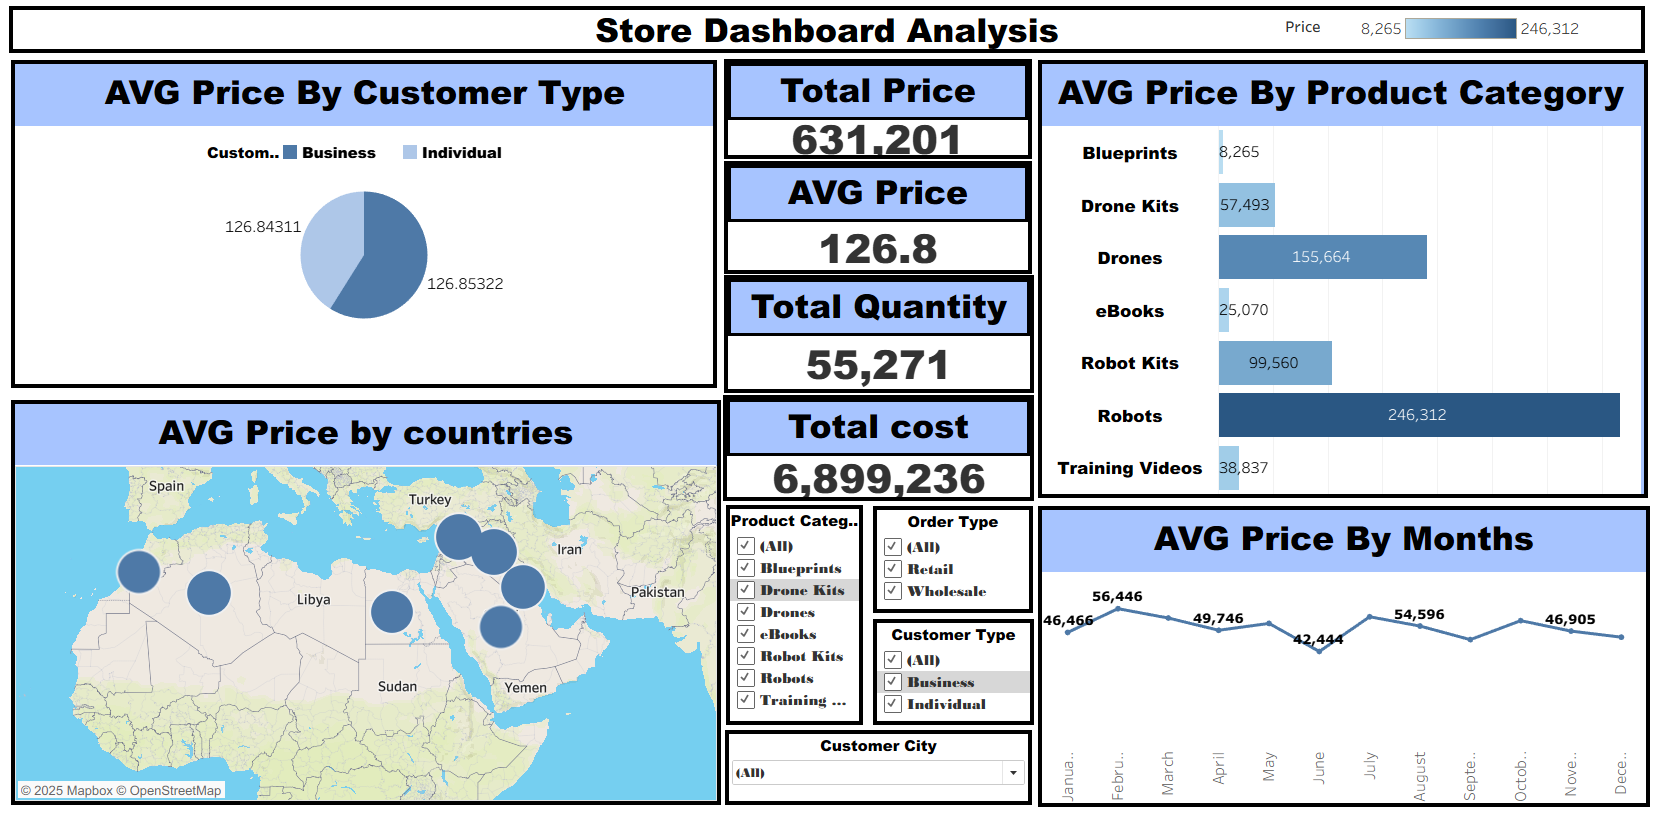

The page's visual inventory and layout, read from the dashboard file:
{"tool":"tableau","page":{"name":"Store Dashboard Analysis","canvas":[1000,1000],"units":"permille","ordinal":0},"visuals":[{"type":"title","box":[4.8,9.7,990.4,66.8]},{"type":"legend","title":"AVG Price By Product Category","param":"[federated.1s2v3v31qegila17r1w2x0wz4xx1].[sum:Price:qk]","box":[776.1,24.3,179.8,32.8]},{"type":"worksheet","title":"Total Price","mark":"Text","box":[438.1,79,185.3,121.5]},{"type":"worksheet","title":"AVG Price By Customer Type","mark":"Pie","box":[8.4,80.2,425.5,398.5]},{"type":"worksheet","title":"AVG Price By Product Category","mark":"Bar","rows":["ProdCategory"],"cols":["Price"],"box":[627,80.2,367.5,532.2]},{"type":"legend","title":"AVG Price By Customer Type","param":"[federated.1s2v3v31qegila17r1w2x0wz4xx1].[none:CustomerType:nk]","box":[126.7,178.6,198.6,36.5]},{"type":"worksheet","title":"AVG Price","mark":"Automatic","box":[438.1,202.9,185.3,137.3]},{"type":"worksheet","title":"Total Quantity","mark":"Automatic","box":[438.1,341.4,186.5,143.4]},{"type":"worksheet","title":"Total cost","mark":"Automatic","box":[437.5,487.2,187.1,128.8]},{"type":"worksheet","title":"AVG Price by countries","mark":"Automatic","box":[8.4,493.3,427.9,492.1]},{"type":"filter","title":"AVG Price by countries","param":"[federated.1s2v3v31qegila17r1w2x0wz4xx1].[Action (Prod Category)]","box":[439.4,620.9,82.7,267.3]},{"type":"filter","title":"AVG Price by countries","param":"[federated.1s2v3v31qegila17r1w2x0wz4xx1].[none:OrderType:nk]","box":[527.5,622.1,96.6,130]},{"type":"worksheet","title":"AVG Price By Months","mark":"Line","rows":["Price"],"cols":["OrderDate"],"box":[627,622.1,368.7,365.7]},{"type":"filter","title":"AVG Price by countries","param":"[federated.1s2v3v31qegila17r1w2x0wz4xx1].[Action (Customer Type)]","box":[527.5,759.4,97.2,128.8]},{"type":"filter","title":"AVG Price by countries","param":"[federated.1s2v3v31qegila17r1w2x0wz4xx1].[none:CustCity:nk]","box":[438.7,894.3,184.7,91.1]}]}

Visuals, with their boxes on the dashboard's canvas, which has no fixed pixel size, in thousandths of its width and height (x1, y1, x2, y2). These are canvas units, not pixel positions in the 1654x814 screenshot, which may show the page scaled, cropped or inside an application window:
title: box=[5, 10, 995, 76]
"AVG Price By Product Category" legend: box=[776, 24, 956, 57]
"Total Price" worksheet (Text marks): box=[438, 79, 623, 200]
"AVG Price By Customer Type" worksheet (Pie marks): box=[8, 80, 434, 479]
"AVG Price By Product Category" worksheet (Bar marks): box=[627, 80, 994, 612]
"AVG Price By Customer Type" legend: box=[127, 179, 325, 215]
"AVG Price" worksheet: box=[438, 203, 623, 340]
"Total Quantity" worksheet: box=[438, 341, 625, 485]
"Total cost" worksheet: box=[438, 487, 625, 616]
"AVG Price by countries" worksheet: box=[8, 493, 436, 985]
"AVG Price by countries" filter: box=[439, 621, 522, 888]
"AVG Price by countries" filter: box=[528, 622, 624, 752]
"AVG Price By Months" worksheet (Line marks): box=[627, 622, 996, 988]
"AVG Price by countries" filter: box=[528, 759, 625, 888]
"AVG Price by countries" filter: box=[439, 894, 623, 985]
